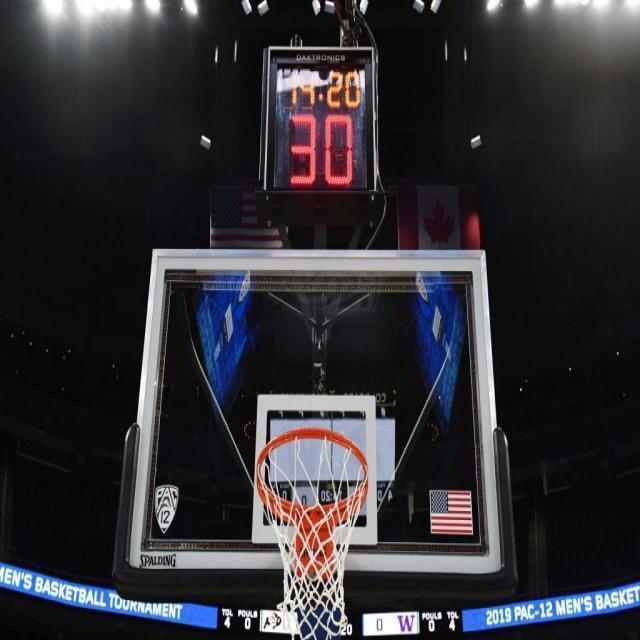hoop: (232, 423, 390, 640)
